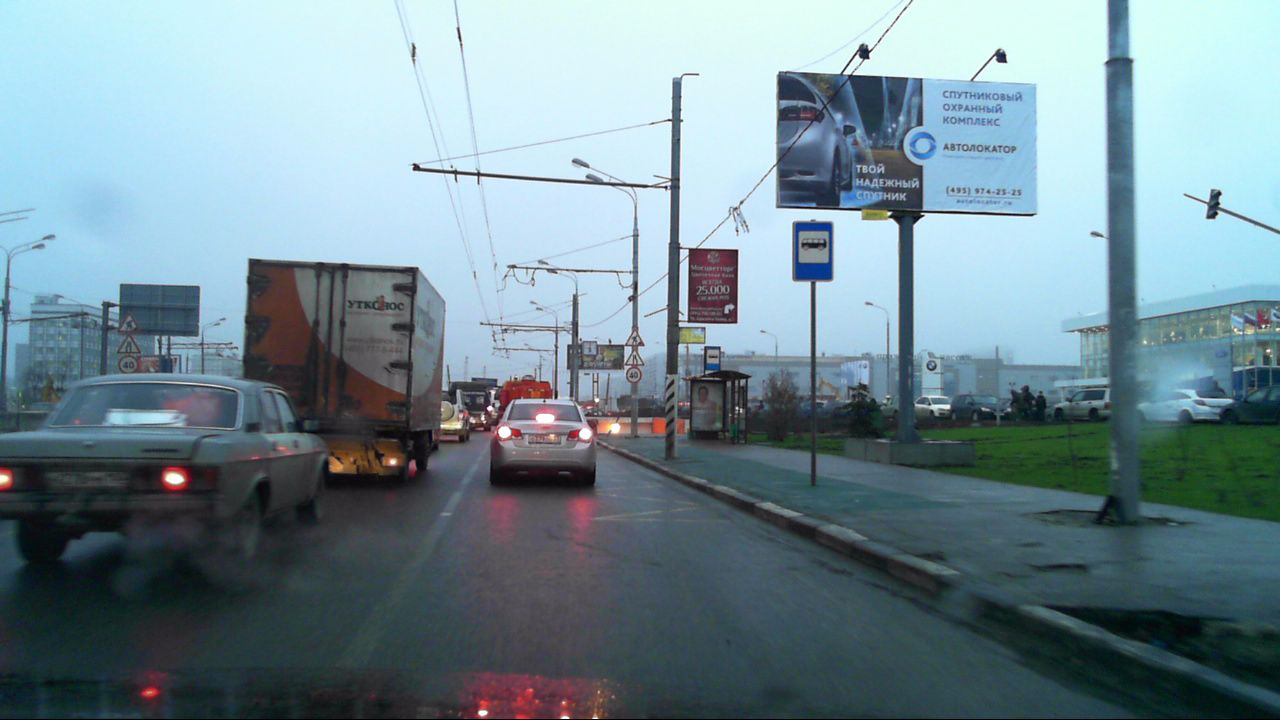speed_warning_40: (119, 355, 137, 373)
